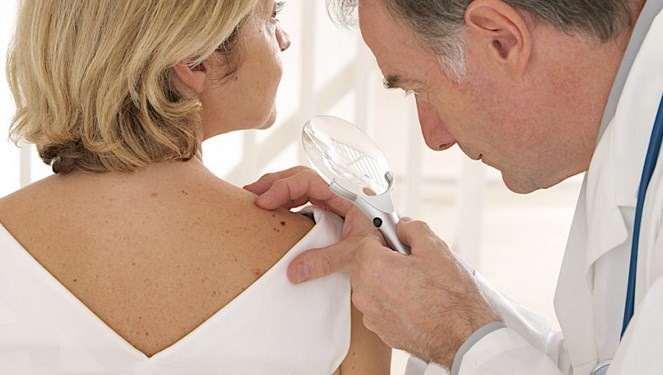mole: (278, 218, 290, 230), (270, 226, 281, 234), (270, 212, 279, 220)
